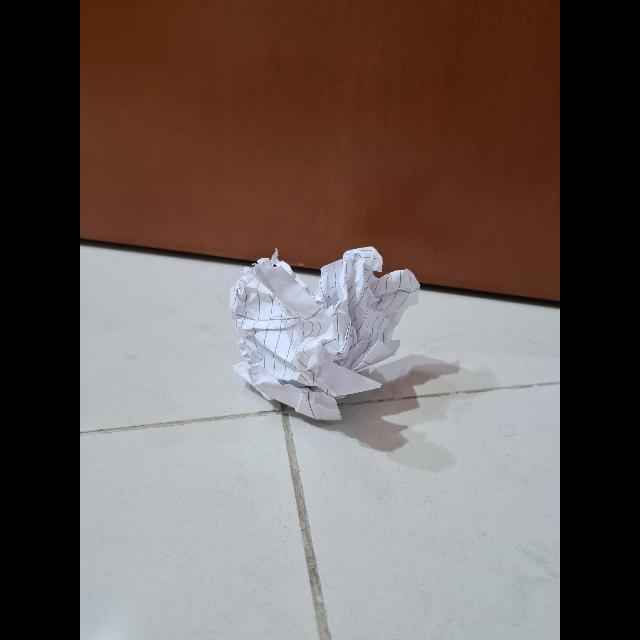scrap_paper: (235, 244, 437, 426)
